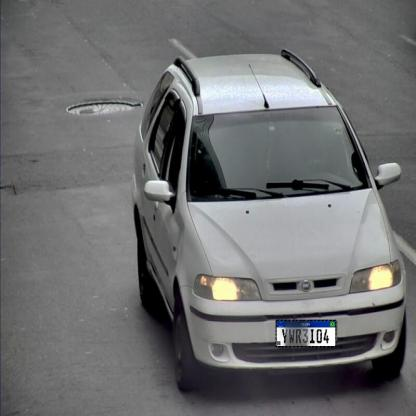PlacaM: (276, 320, 336, 347)
